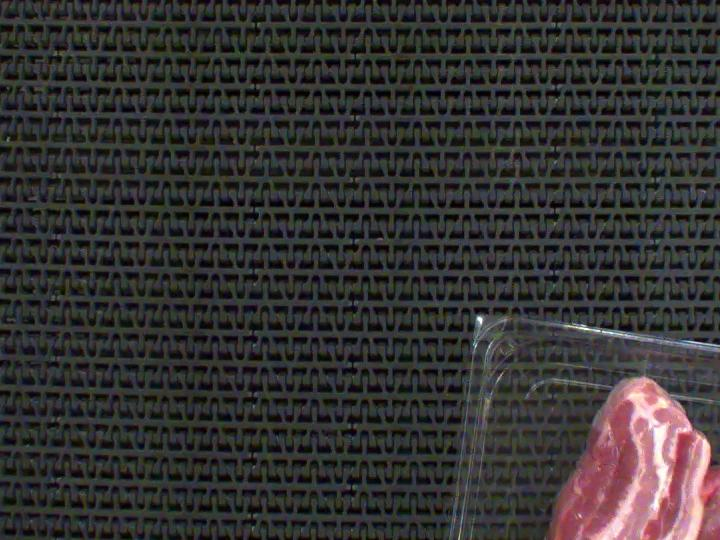packaging-error: (628, 342, 663, 386)
